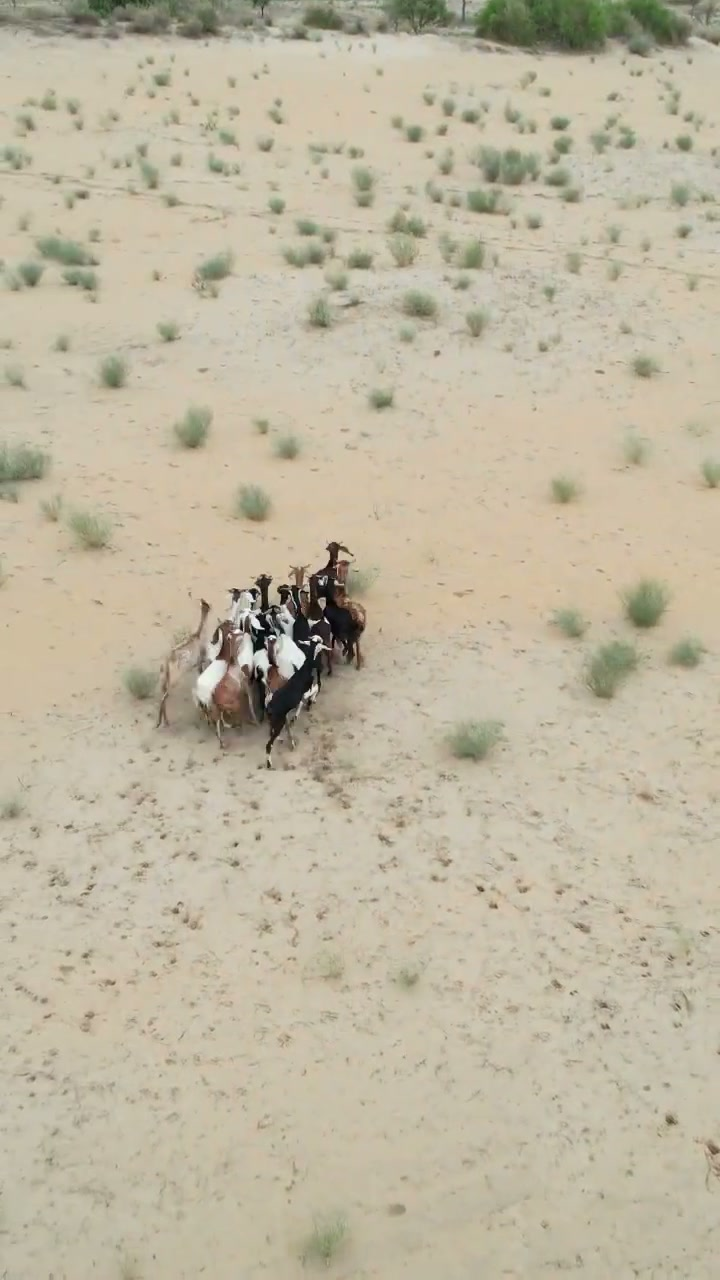animal_foot_print: (21, 694, 715, 1192)
